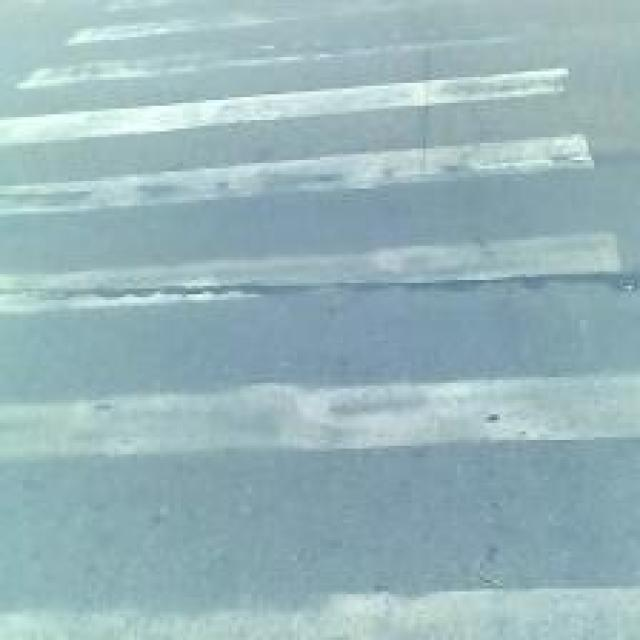walk-crossing: (79, 13, 510, 638)
